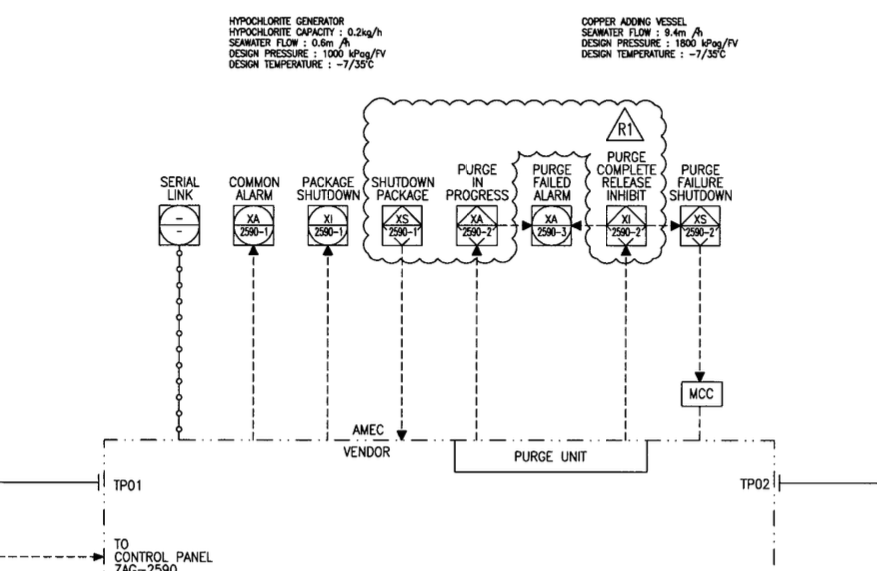Instrument-square: (372, 201, 431, 252), (523, 203, 580, 250), (449, 200, 503, 249), (675, 202, 727, 249), (228, 203, 281, 249), (305, 203, 353, 250), (602, 202, 649, 248)
